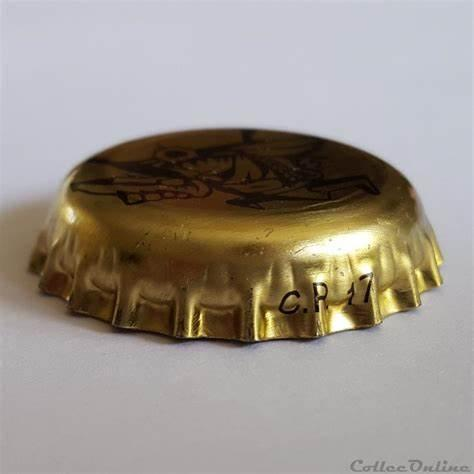metal: (29, 129, 444, 342)
